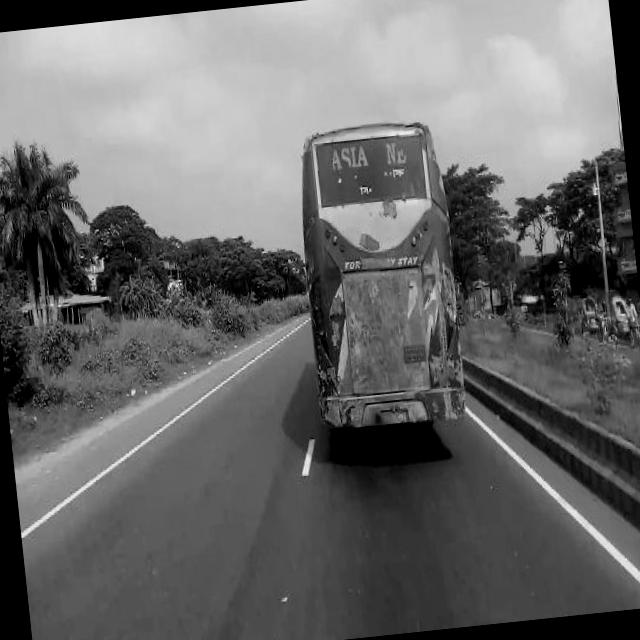bus: (286, 114, 468, 438)
motorcycle: (605, 290, 640, 348), (576, 294, 608, 344)
